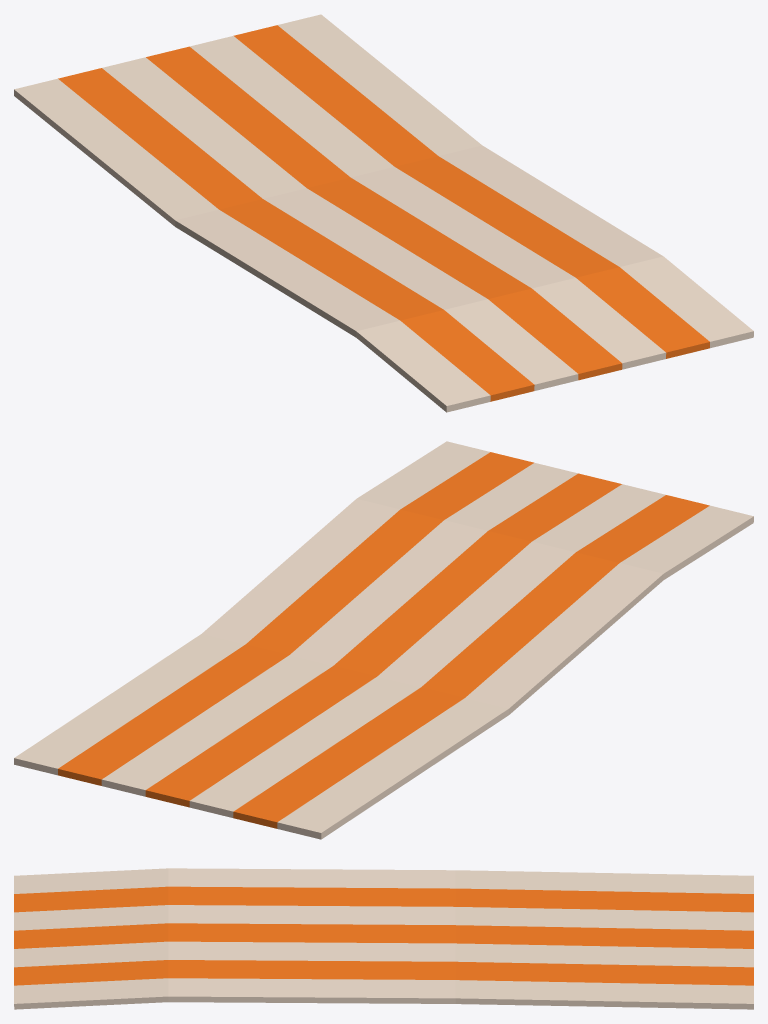
File: towel-beach.glb
The picture shows the model from 3 angles, top to bottom: view 1: azimuth 30°, elevation 25°; view 2: azimuth 150°, elevation 25°; view 3: azimuth 270°, elevation 25°; orthographic projection. The views are drawn at different scales.
Visible parts, largest first — view 1: towel-beach; view 2: towel-beach; view 3: towel-beach.
Part boxes in pixels (x1,y1,x2,y2): towel-beach: (14, 14, 753, 412); towel-beach: (14, 441, 753, 839); towel-beach: (14, 868, 753, 1009).
Bounding box in the file's own units: 0.9135 × 0.0416 × 2.14.
1 material, 1 textured.
